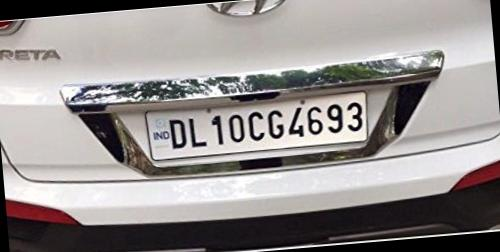plate: (134, 67, 385, 195)
